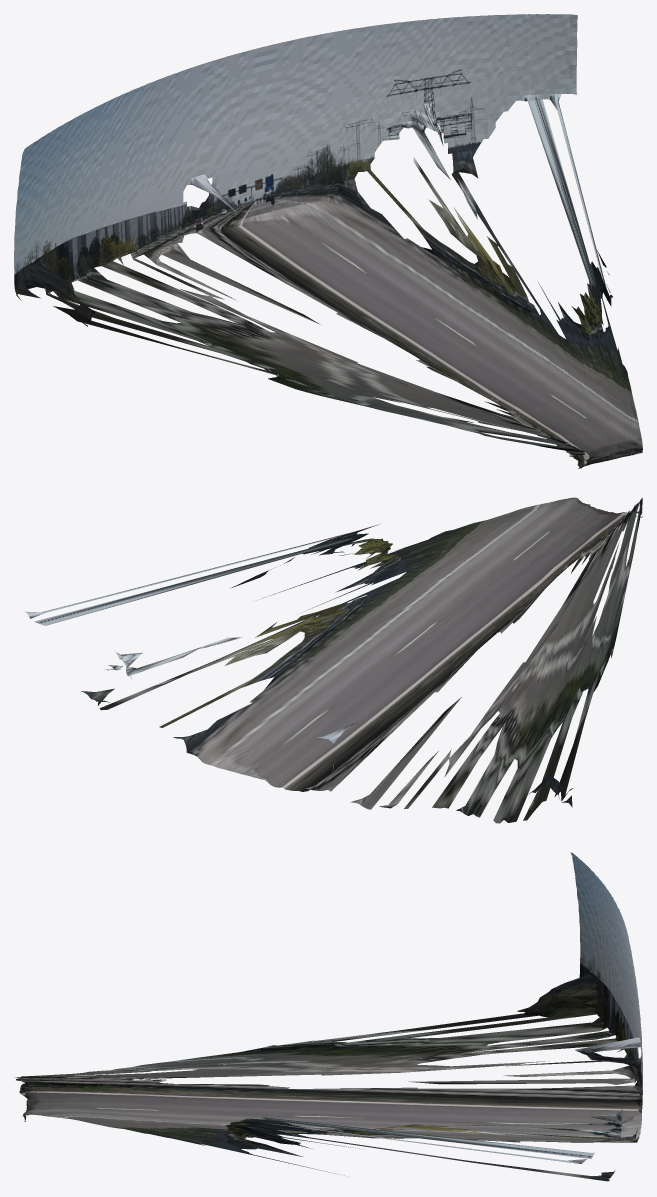
3 views of the same model, one above another, from view 1: azimuth 30°, elevation 25°; view 2: azimuth 150°, elevation 25°; view 3: azimuth 270°, elevation 25° (orthographic). The views are drawn at different scales.
Parts seen in each view (by area): view 1: defaultobject; view 2: defaultobject; view 3: defaultobject.
Part boxes in pixels (bbox=[...]): defaultobject: bbox=[14, 14, 642, 468]; defaultobject: bbox=[25, 497, 642, 823]; defaultobject: bbox=[15, 852, 642, 1181].
Bounding box in the file's own units: 41.11 × 12.8 × 44.96.
1 material, 1 textured.
